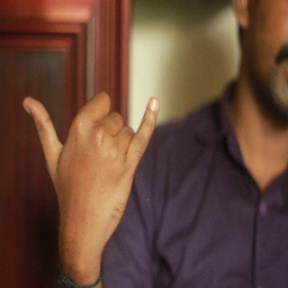J: (19, 72, 160, 217)
